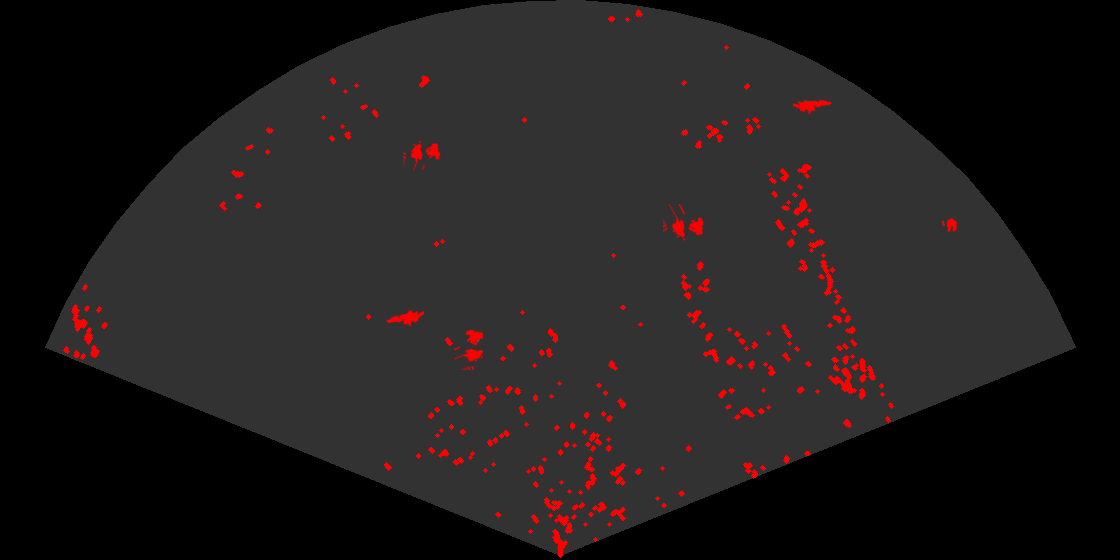ball: (941, 217, 957, 233)
cage: (663, 204, 705, 242), (454, 328, 485, 370), (403, 139, 442, 170)
frogman: (385, 308, 424, 328), (793, 98, 832, 116)
